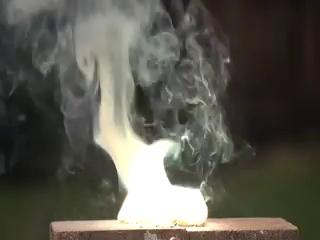Fire: (94, 92, 211, 226)
